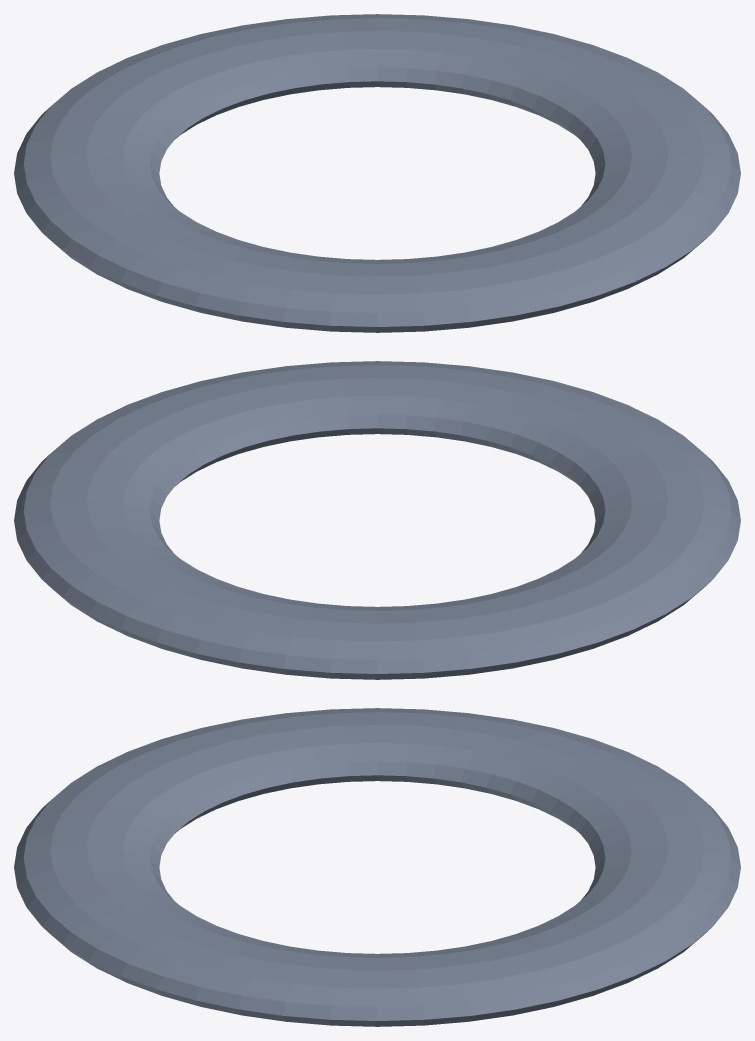
The model's file is UA_Arch_Ring.fbx.
The picture shows the model from 3 angles, top to bottom: view 1: azimuth 30°, elevation 25°; view 2: azimuth 150°, elevation 25°; view 3: azimuth 270°, elevation 25°; orthographic projection.
Visible parts, largest first — view 1: UA_Arch_Ring; view 2: UA_Arch_Ring; view 3: UA_Arch_Ring.
Part boxes in pixels (<box>): UA_Arch_Ring: <box>14,14,740,332</box>; UA_Arch_Ring: <box>14,361,740,679</box>; UA_Arch_Ring: <box>14,708,740,1026</box>.
Size of the model in its own units: 3 by 0.18 by 3.
